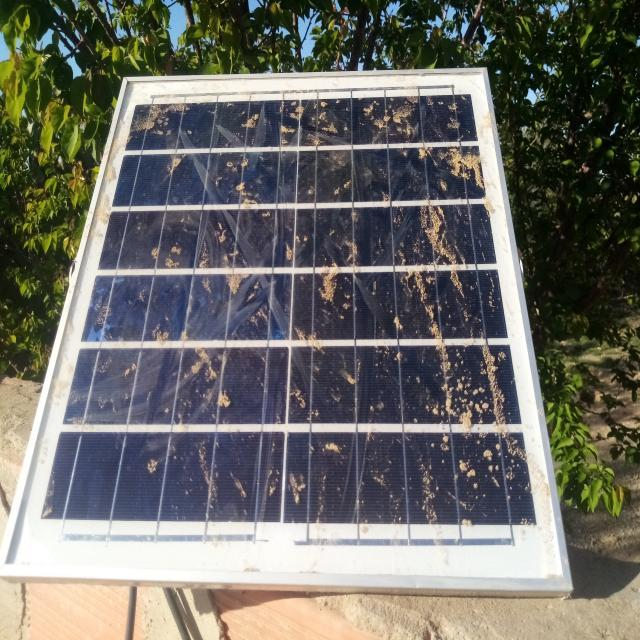faulty: (2, 70, 574, 593)
